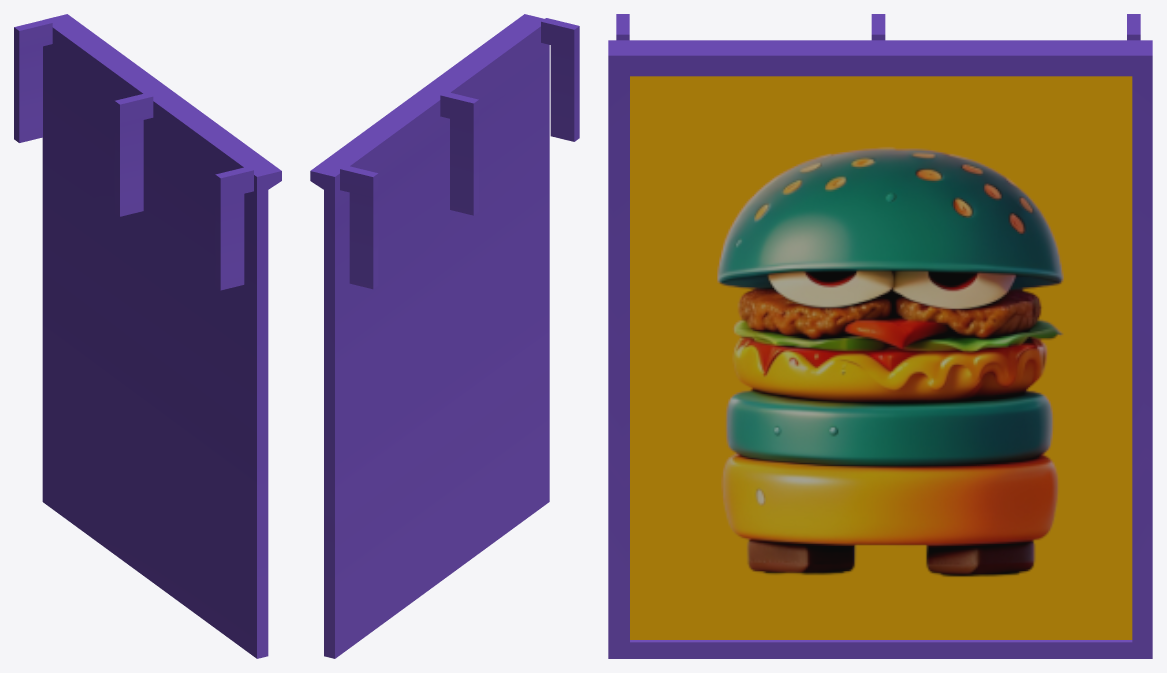
Rendered from SignProp_2_C_3.glb.
The picture shows the model from 3 angles, left to right: view 1: azimuth 30°, elevation 25°; view 2: azimuth 150°, elevation 25°; view 3: azimuth 270°, elevation 25°; orthographic projection. The views are drawn at different scales.
Visible parts, largest first — view 1: SignProp_2_C_3; view 2: SignProp_2_C_3; view 3: SignProp_2_C_3.
Part boxes in pixels (x1,y1,x2,y2): SignProp_2_C_3: (14, 14, 281, 658); SignProp_2_C_3: (310, 14, 579, 658); SignProp_2_C_3: (608, 14, 1152, 658).
Bounding box in the file's own units: 0.1449 × 1.16 × 0.9255.
Materials: 2 (2 with a texture image).
